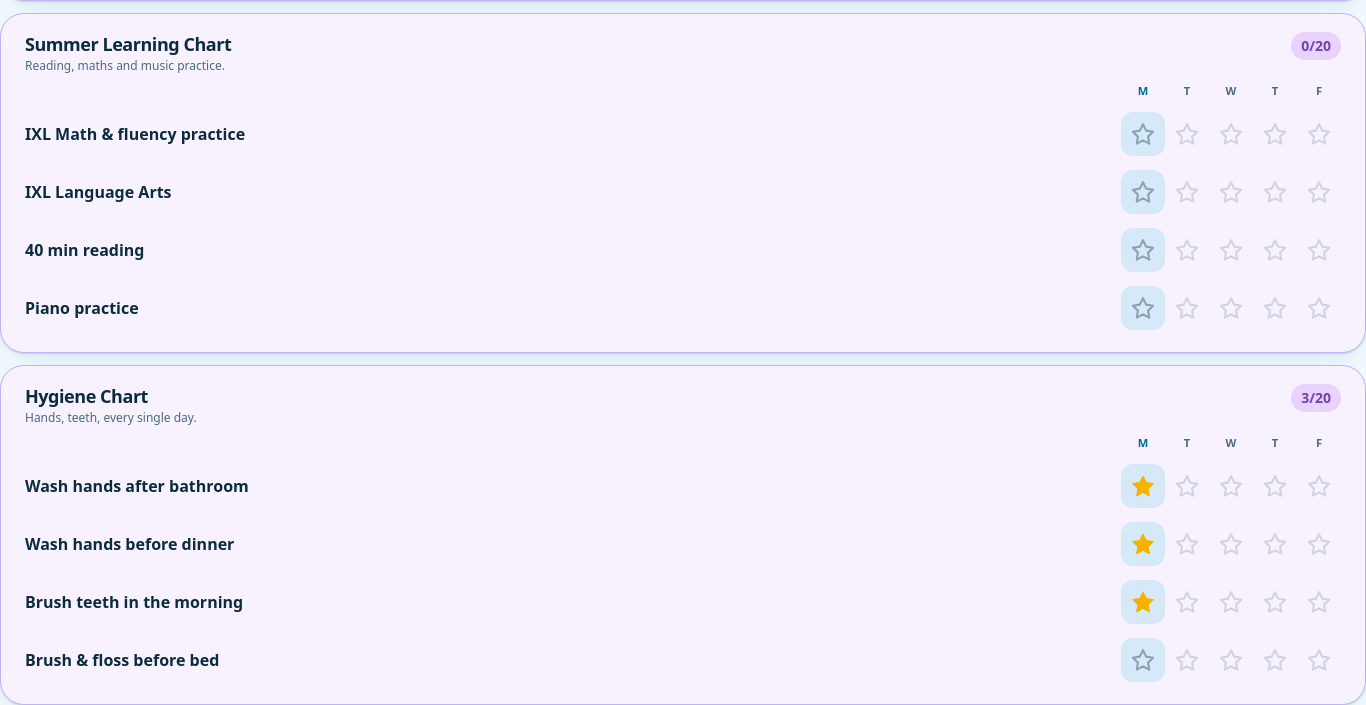
Test case: accessibility › announces a celebration in words, for anyone who cannot see confetti
(page scrolled)
What coordinates should you click on to do the following:
click the switch named "Brush & floss before bed on Monday"
I would click on:
 (1143, 660)
Its box is [1121,638,1165,682].
(page scrolled)
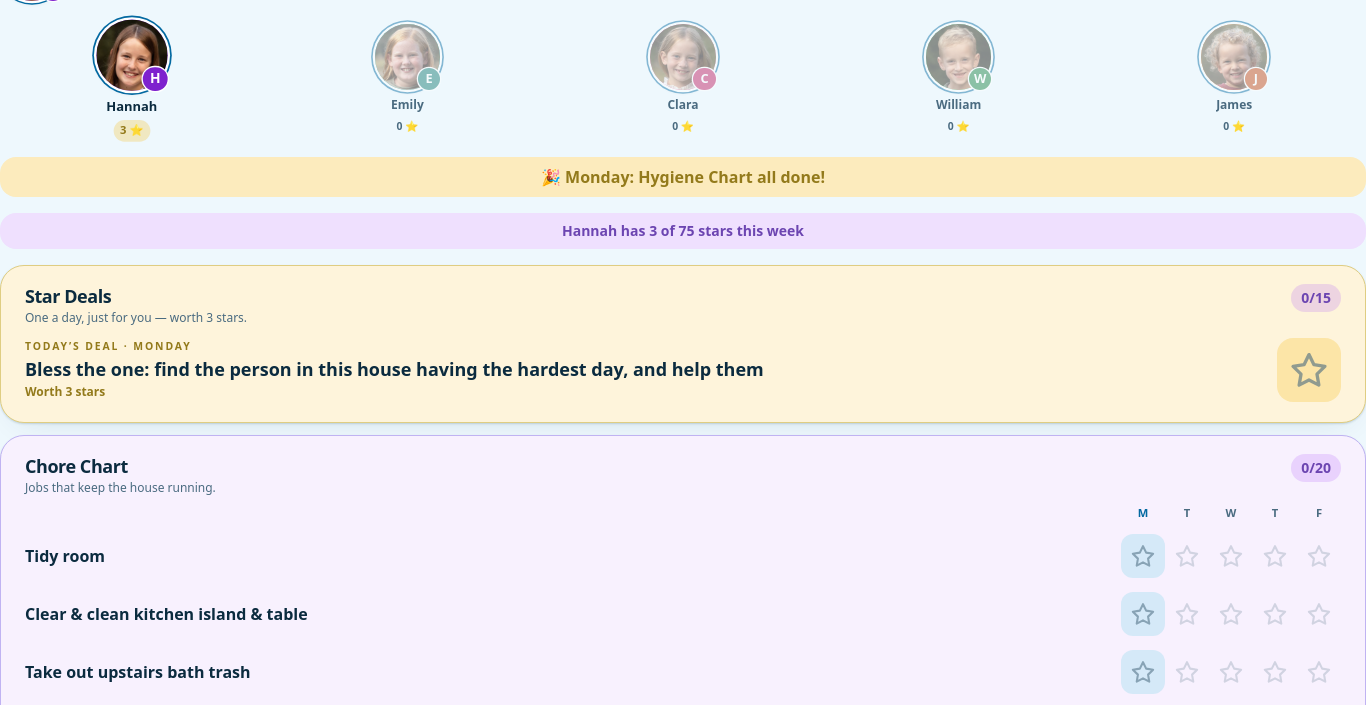
Check: the message shows "Monday", box [565,166,825,188]
Check: the message shows "Hygiene Chart", box [565,166,825,188]
